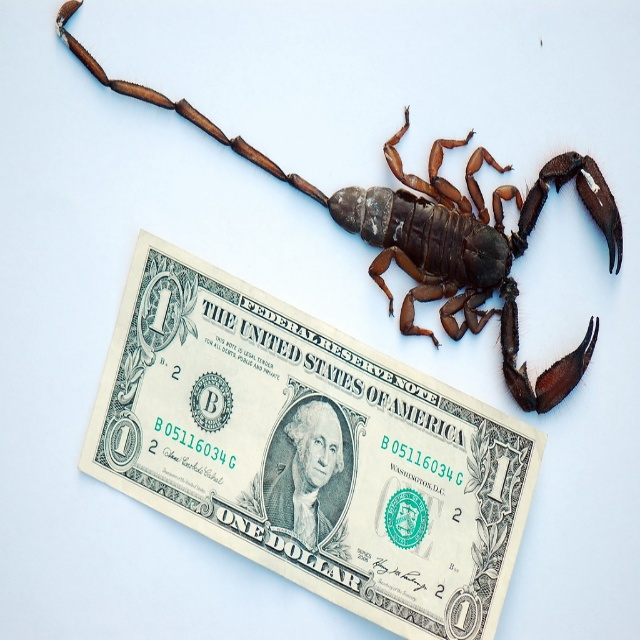Scorpion: (54, 0, 625, 414)
